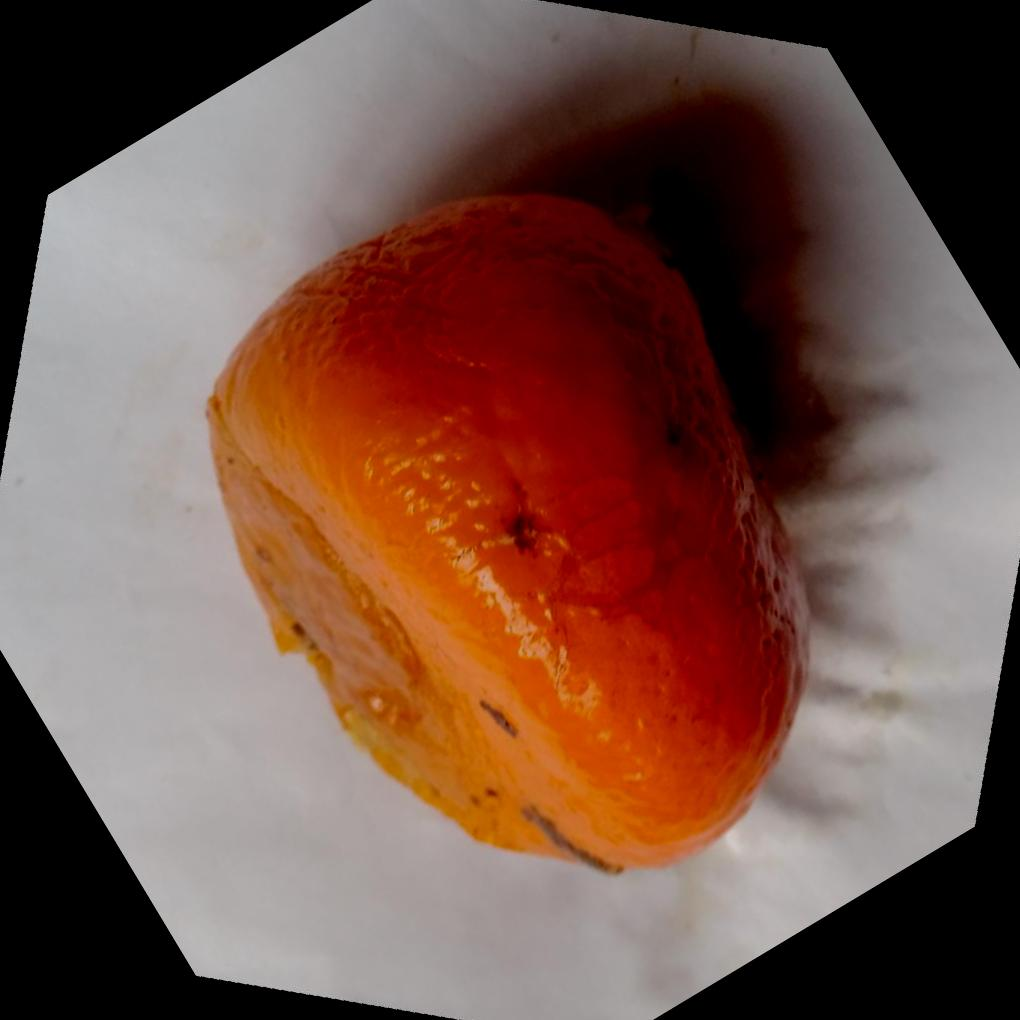FreshOrange: (202, 185, 811, 872)
